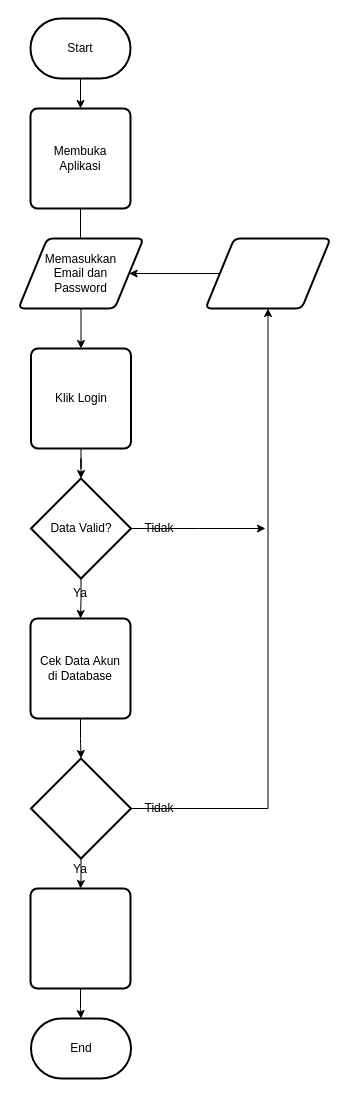
Some shapes in this 348 by 1096 pixel diagram are drawn without their labels. Here are the shapes that lost their labels. From the top down, the centre of each, then its label:
At (x=267, y=273): "Tampilkan Error".
At (x=81, y=808): "Data Akun Ada?".
At (x=80, y=938): "Masuk ke Halaman Utama".
